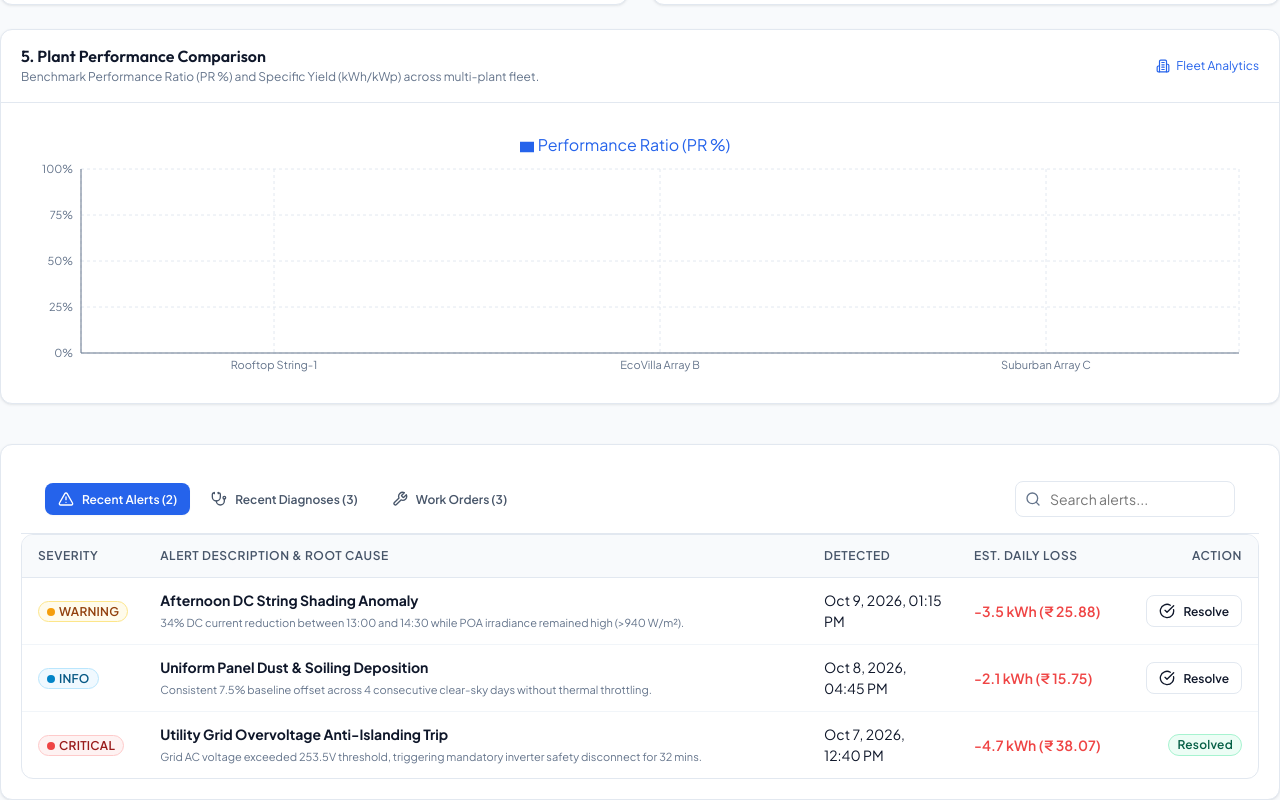
SolarMind Dashboard Component Suite › switches between Alerts, Diagnoses, and Work Orders tabs
(page scrolled)
Expected: the text "Afternoon DC String Shading Anomaly" is shown, [160,591,418,609]
// Switch to Diagnoses Tab
Click the button "Recent Diagnoses (3)". click: coordinates (285, 499)
box: [198,483,371,515]
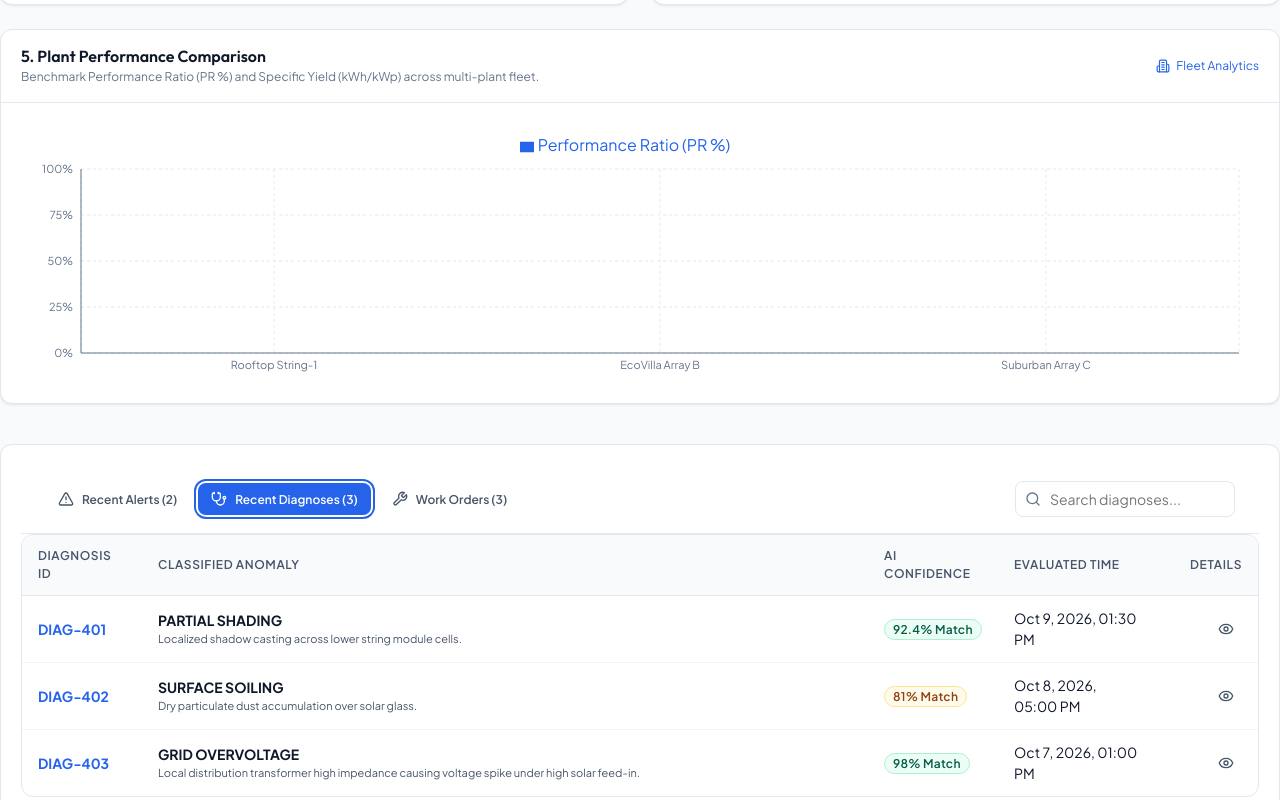
Expected: the text "DIAG-401" is shown, [38,620,106,638]
Expected: the column heading "AI Confidence" is shown, [868,535,998,596]
// Switch to Work Orders Tab
Click the button "Work Orders (3)". click: coordinates (450, 499)
box: [379,483,520,515]
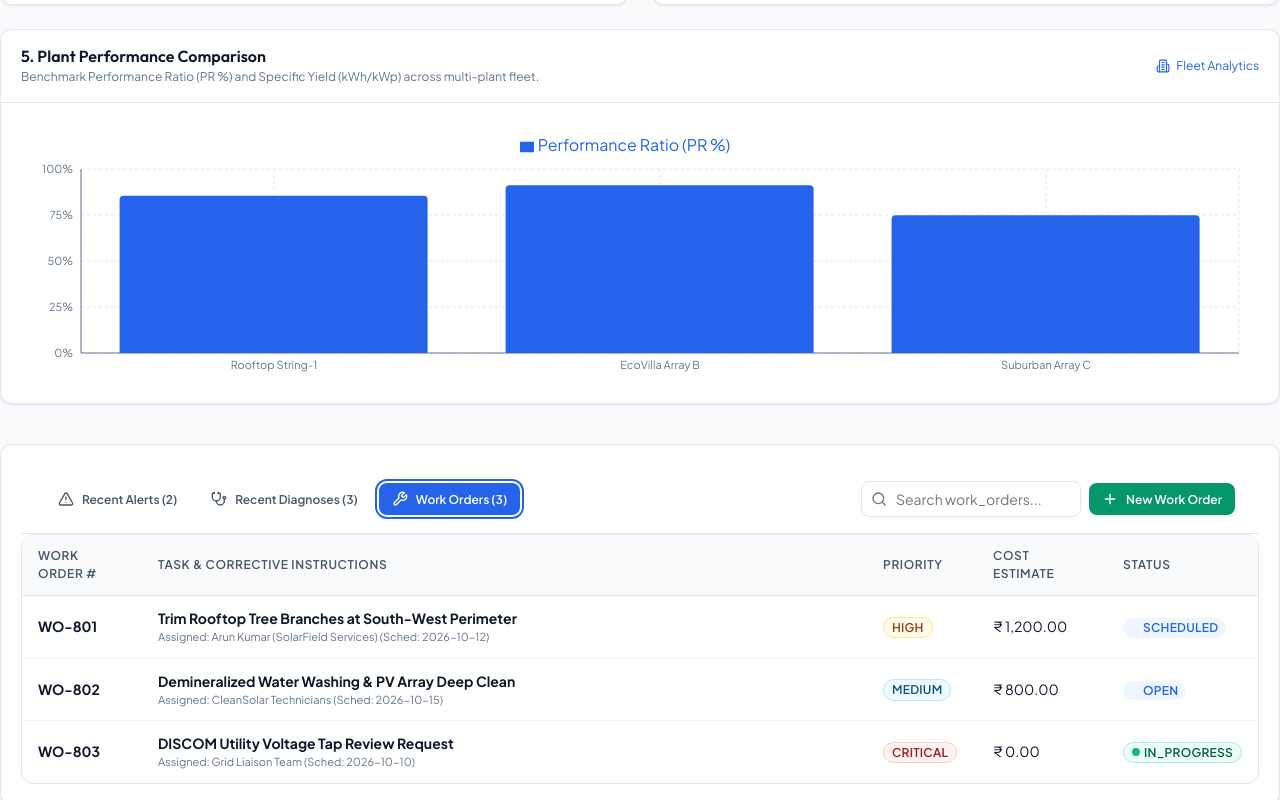
Expected: the text "WO-801" is shown, [38,617,97,635]
Expected: the text "Trim Rooftop Tree Branches at South-West Perimeter" is shown, [158,609,517,627]
